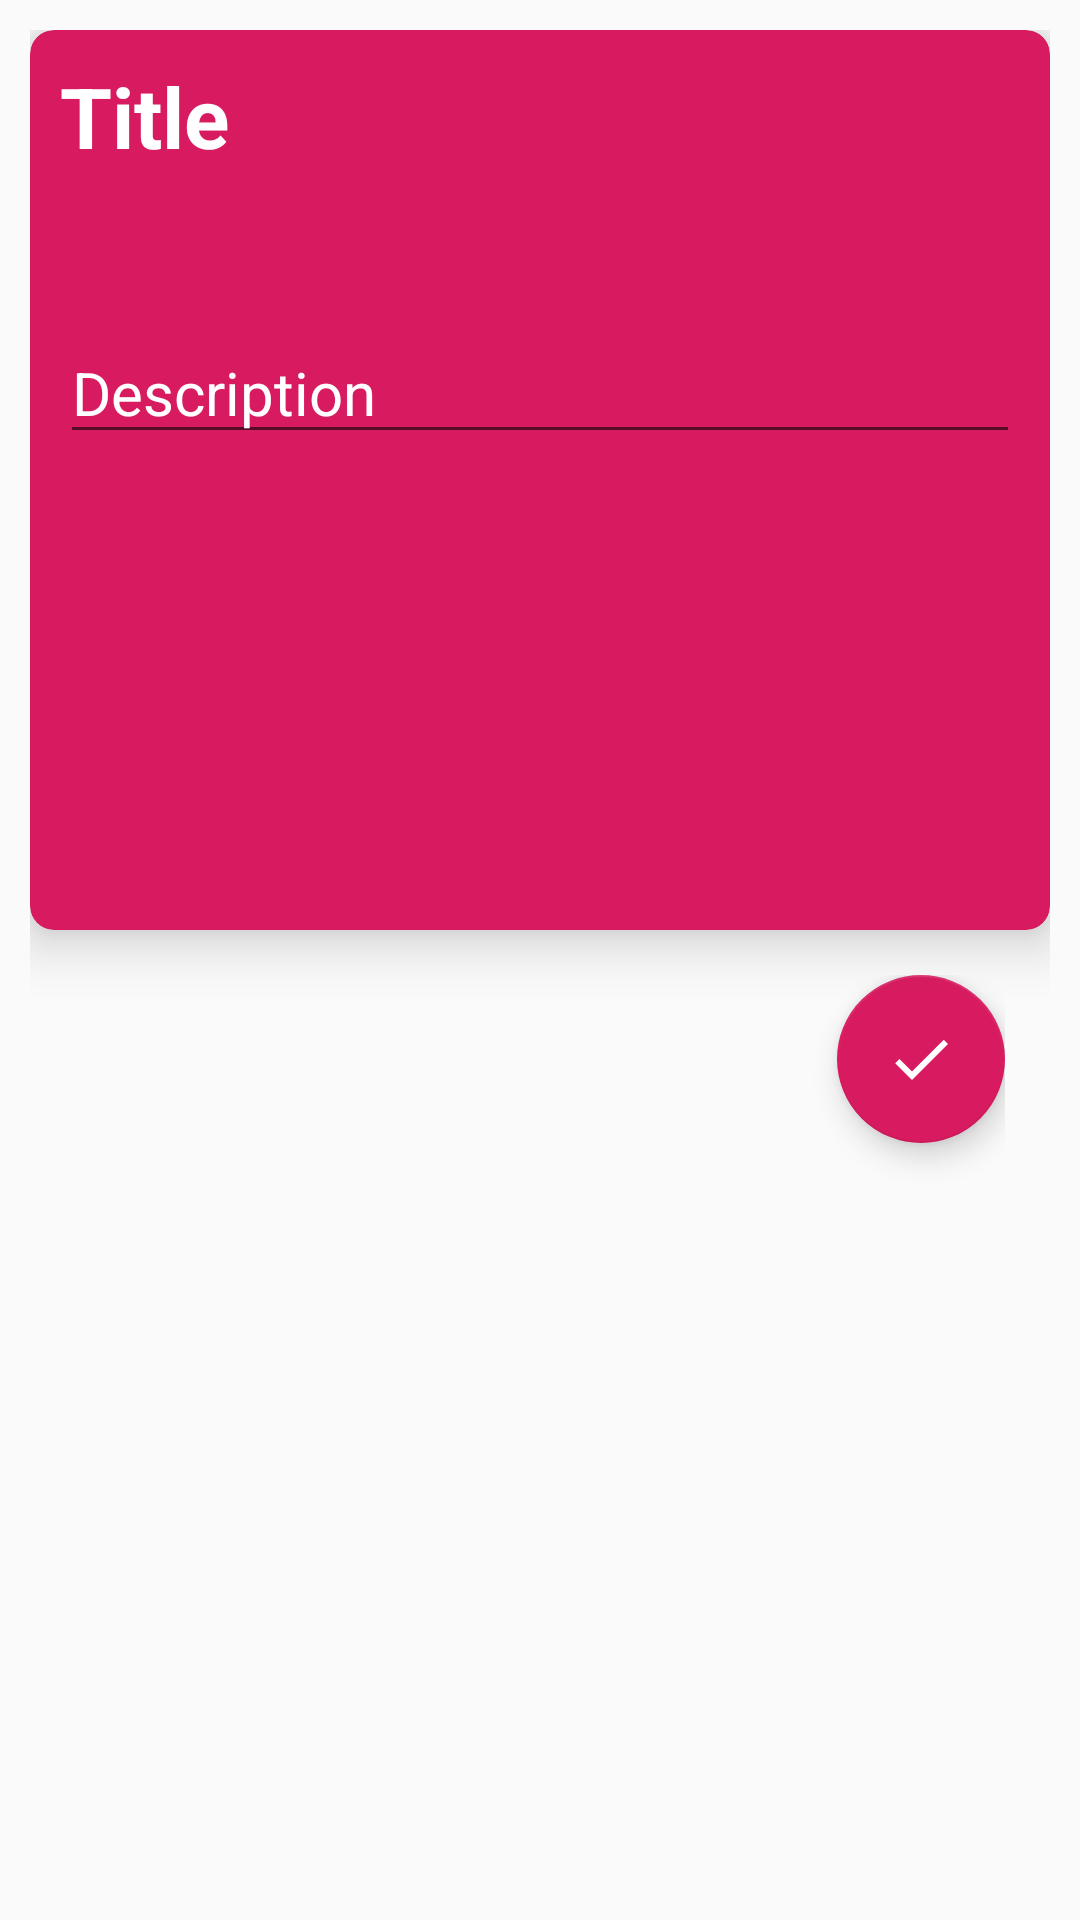

Icon bounding boxes for this 1080 × 1920 phone screenshot, format Rect(x1, y1, x2, y2):
check: Rect(837, 975, 1005, 1143)
